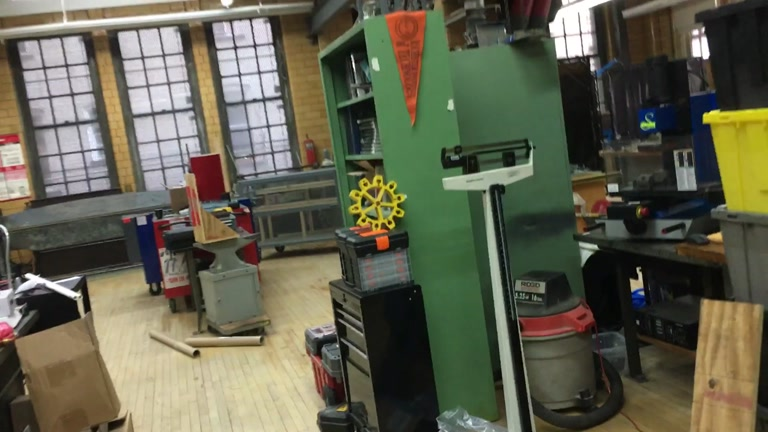gear: (347, 174, 405, 233)
